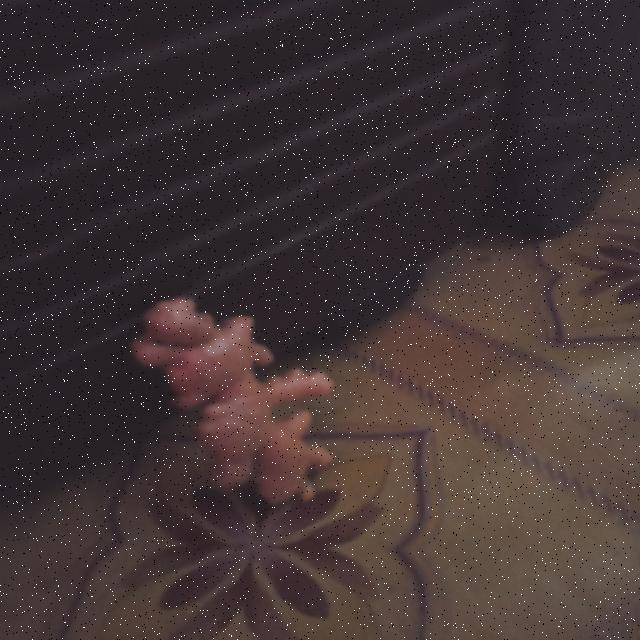ginger: (116, 277, 357, 538)
